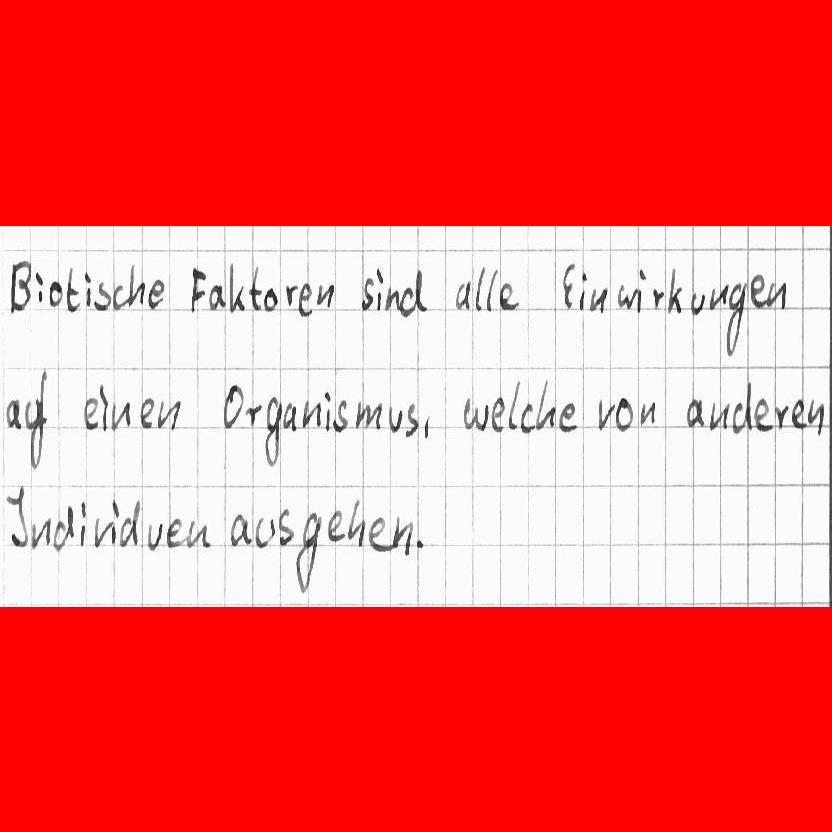Char: (294, 513, 320, 592), (28, 373, 48, 469), (722, 280, 745, 361), (397, 267, 427, 320), (262, 395, 281, 470), (6, 258, 31, 314), (6, 485, 28, 548), (537, 376, 556, 431), (52, 499, 72, 551), (120, 499, 141, 547), (124, 262, 145, 307), (222, 382, 242, 429), (354, 398, 383, 430), (346, 499, 365, 546), (736, 381, 752, 433), (463, 396, 486, 431), (392, 516, 412, 555), (229, 510, 250, 547), (190, 266, 206, 313), (368, 516, 389, 551), (667, 268, 683, 313), (230, 268, 246, 313), (596, 394, 615, 431), (186, 520, 210, 549), (64, 264, 78, 313), (332, 396, 350, 434), (707, 282, 729, 313), (765, 278, 786, 310), (753, 395, 771, 432), (558, 399, 577, 434), (507, 380, 520, 431), (255, 515, 275, 548), (588, 284, 610, 314), (707, 398, 727, 431), (299, 399, 320, 430), (616, 395, 634, 431), (561, 263, 575, 309), (83, 393, 100, 430), (31, 518, 51, 549), (157, 403, 179, 431), (686, 395, 704, 429), (636, 397, 657, 426), (113, 398, 132, 430), (326, 507, 343, 542), (148, 277, 166, 310), (489, 394, 505, 431), (145, 520, 164, 551), (498, 284, 519, 312), (297, 282, 313, 318), (619, 280, 637, 312), (315, 281, 334, 311), (278, 507, 293, 545), (749, 274, 765, 309), (635, 267, 647, 313), (140, 396, 156, 430), (457, 280, 475, 310), (6, 396, 22, 429), (91, 518, 109, 547), (359, 273, 372, 313), (249, 262, 260, 309), (98, 382, 108, 433), (167, 518, 183, 549), (520, 402, 536, 433), (475, 265, 486, 310), (94, 280, 109, 312), (209, 282, 225, 312), (405, 404, 419, 438), (79, 501, 89, 547), (486, 269, 497, 310), (111, 497, 120, 547), (688, 289, 705, 315), (384, 284, 399, 313), (283, 281, 297, 312), (262, 284, 278, 311), (245, 401, 262, 426), (322, 390, 332, 432), (792, 398, 806, 428), (811, 402, 824, 434), (374, 270, 384, 311), (47, 280, 62, 307), (389, 406, 404, 433), (110, 281, 123, 311), (650, 286, 664, 312), (774, 404, 788, 430), (283, 403, 296, 430), (576, 272, 585, 310), (83, 274, 93, 308), (35, 271, 44, 306), (422, 415, 433, 441), (414, 536, 426, 553)
